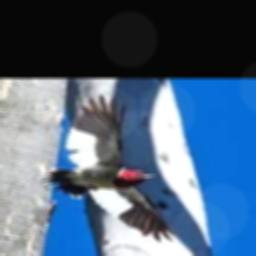Woodpecker: (38, 95, 174, 243)
